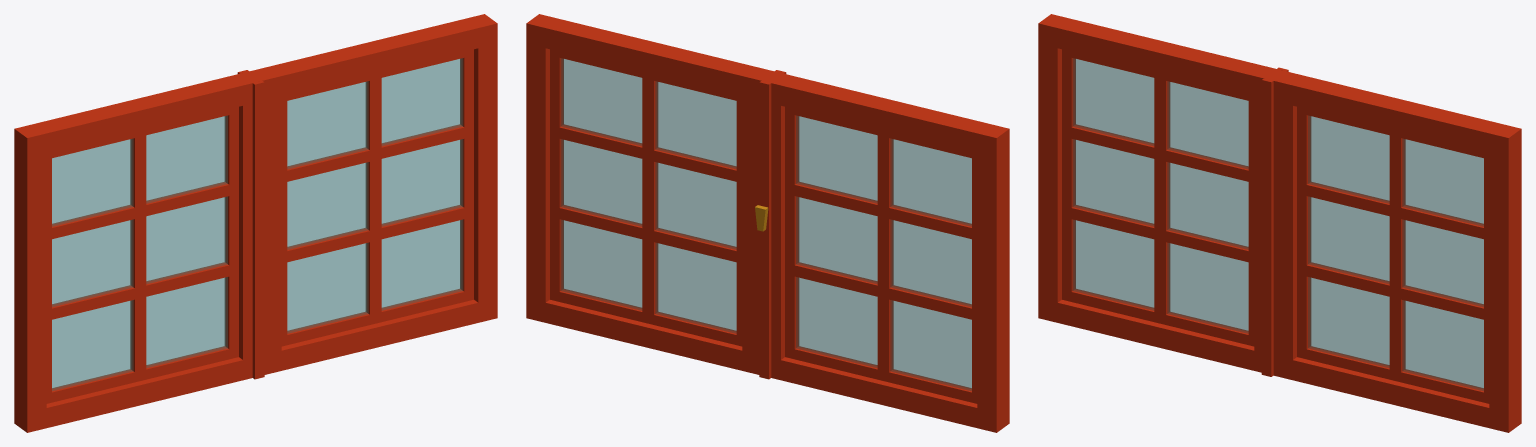
The model's file is Windows.fbx.
The picture shows the model from 3 angles, left to right: view 1: azimuth 30°, elevation 25°; view 2: azimuth 150°, elevation 25°; view 3: azimuth 330°, elevation 25°; orthographic projection.
Parts seen in each view (by area): view 1: Box201; view 2: Box201; view 3: Box201.
Boxes of the visible parts, left/top/right/bottom form: Box201: left=14, top=14, right=497, bottom=432; Box201: left=526, top=14, right=1009, bottom=432; Box201: left=1038, top=14, right=1521, bottom=432.
Bounding box in the file's own units: 1238 × 742 × 96.92.
